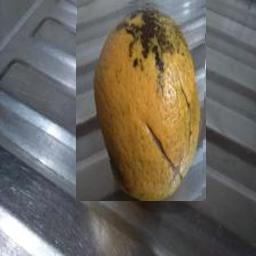Orange Semirotten: (76, 0, 206, 201)
